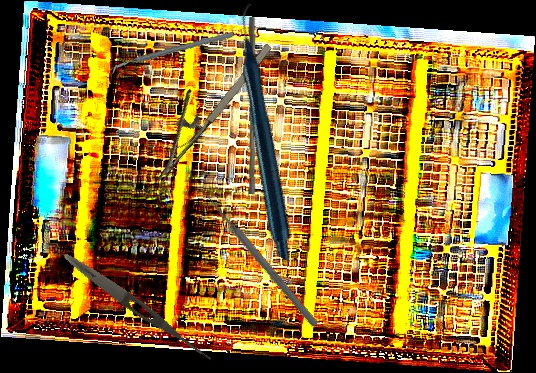Chopper: (109, 15, 235, 91)
Dressing Forceps: (60, 249, 218, 366)
Handpiece: (150, 2, 386, 262)
Needle Holder: (129, 24, 277, 186)
Pusher: (202, 190, 320, 329), (241, 16, 262, 195)
